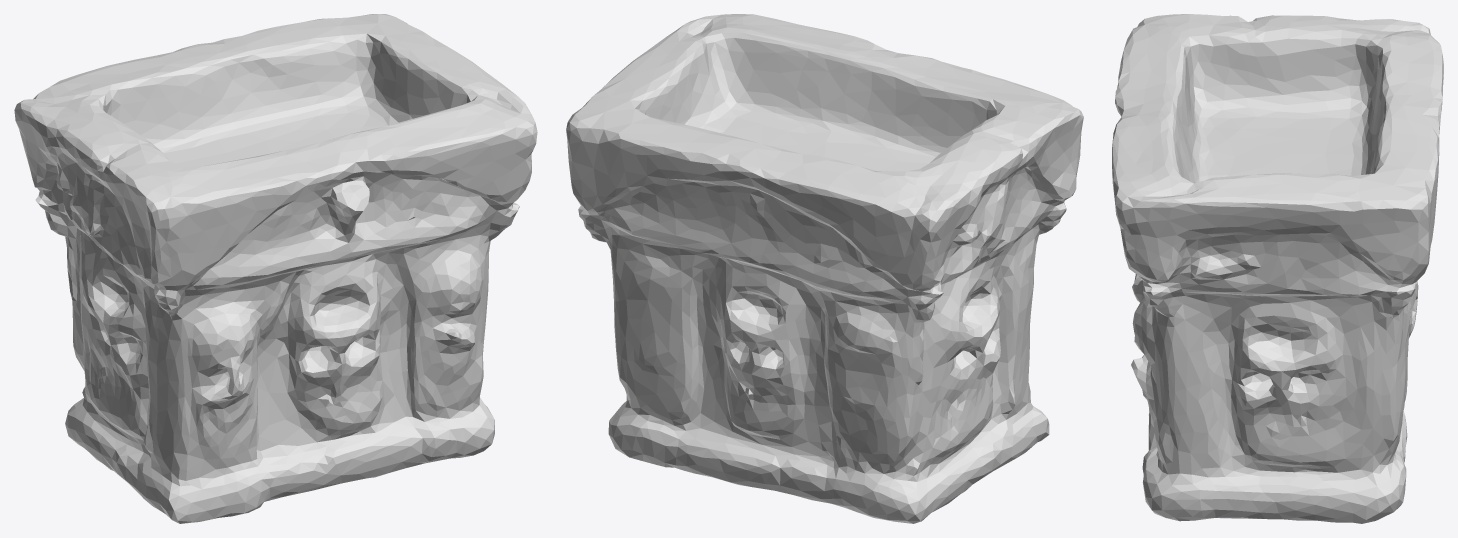
File: altar_stone_r1.glb
3 views of the same model, side by side, from view 1: azimuth 30°, elevation 25°; view 2: azimuth 150°, elevation 25°; view 3: azimuth 270°, elevation 25° (orthographic).
Parts seen in each view (by area): view 1: Low; view 2: Low; view 3: Low.
Boxes of the visible parts, x1,y1,x2,y2 form: Low: (14, 14, 537, 523); Low: (566, 14, 1083, 523); Low: (1112, 14, 1443, 523).
Bounding box in the file's own units: 1.98 × 1.7 × 1.48.
1 material, 1 textured.
